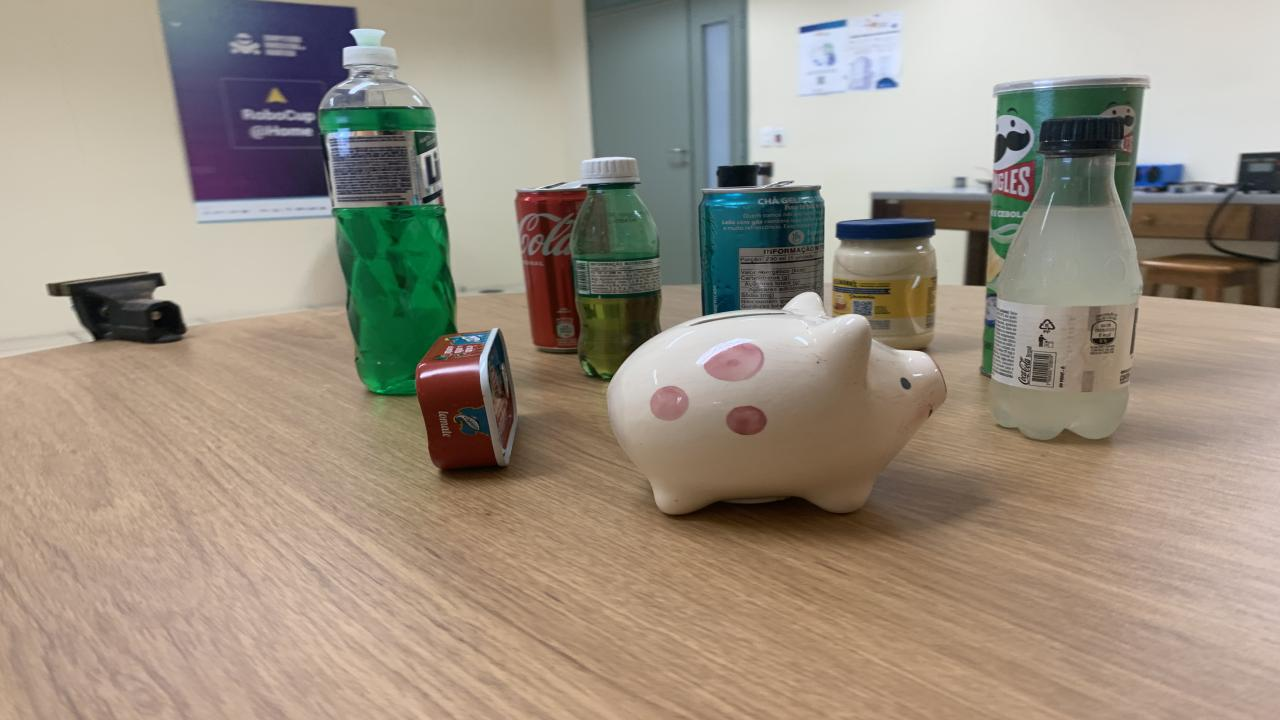Coke-Drinks: (515, 188, 588, 352)
Detergent-Cleanup_Items: (318, 30, 455, 394)
English_Sauce-Pantry_Items: (718, 165, 758, 188)
Guarana-Drinks: (570, 158, 662, 379)
Mayonnaise-Pantry_Items: (832, 219, 938, 351)
Pig_Safe-Miscellaneous: (608, 292, 948, 514)
Pringles-Snacks: (982, 75, 1150, 375)
Soda-Drinks: (990, 116, 1142, 439)
Tea-Drinks: (700, 186, 825, 313)
Tuna_Can-Pantry_Items: (415, 328, 518, 469)
